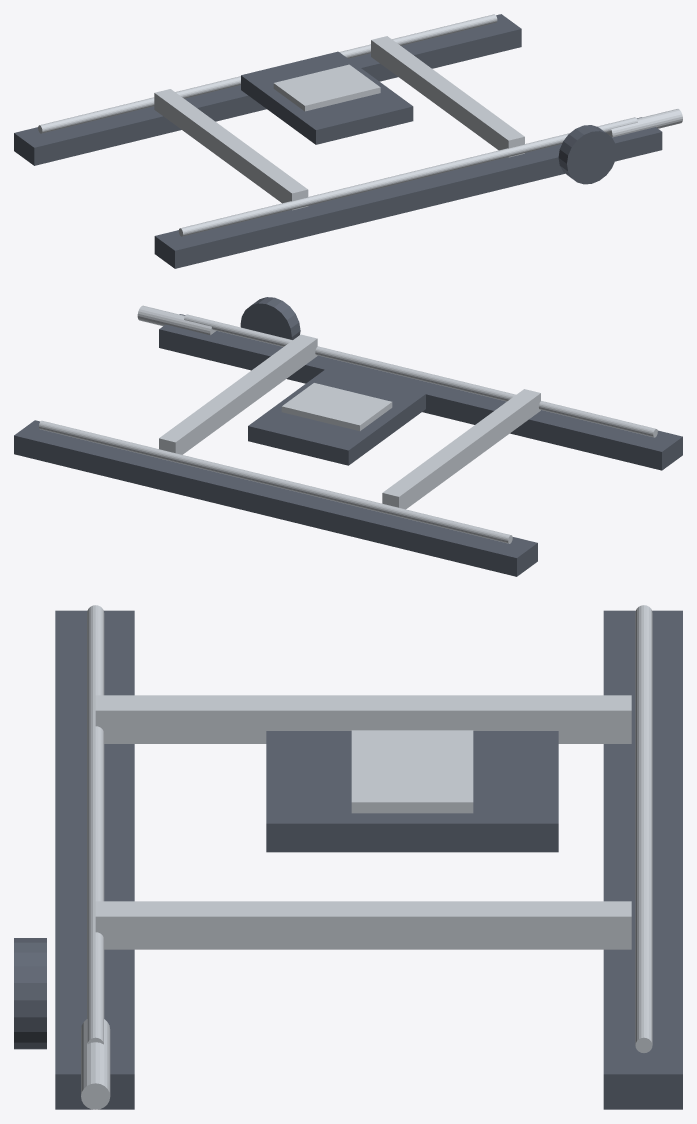
File: wafer-xy-motion-stage-2.glb
3 renders of one model, top to bottom at view 1: azimuth 30°, elevation 25°; view 2: azimuth 150°, elevation 25°; view 3: azimuth 270°, elevation 25°, orthographic. The views are drawn at different scales.
Parts seen in each view (by area): view 1: black long rail (×2), silver cross rail (×2), black wafer carriage, silver guide shaft (×2), silver carriage clamp, black front handwheel, silver transverse drive; view 2: black long rail (×2), silver cross rail (×2), silver guide shaft (×2), black wafer carriage, silver carriage clamp, black front handwheel, silver transverse drive; view 3: black long rail (×2), silver cross rail (×2), black wafer carriage, silver guide shaft (×2), silver carriage clamp, black front handwheel, silver transverse drive.
Part boxes in pixels (left/top/right/bottom): black long rail (×2): left=14, top=14, right=662, bottom=268; silver cross rail (×2): left=154, top=36, right=524, bottom=210; black wafer carriage: left=241, top=51, right=413, bottom=144; silver guide shaft (×2): left=38, top=14, right=637, bottom=236; silver carriage clamp: left=273, top=64, right=380, bottom=111; black front handwheel: left=558, top=125, right=616, bottom=184; silver transverse drive: left=607, top=109, right=682, bottom=137; black long rail (×2): left=14, top=314, right=682, bottom=576; silver cross rail (×2): left=159, top=334, right=540, bottom=509; silver guide shaft (×2): left=39, top=314, right=657, bottom=543; black wafer carriage: left=248, top=369, right=425, bottom=465; silver carriage clamp: left=281, top=383, right=392, bottom=431; black front handwheel: left=240, top=297, right=300, bottom=339; silver transverse drive: left=137, top=305, right=216, bottom=335; black long rail (×2): left=55, top=610, right=682, bottom=1109; silver cross rail (×2): left=95, top=695, right=631, bottom=949; black wafer carriage: left=266, top=731, right=558, bottom=852; silver guide shaft (×2): left=87, top=605, right=652, bottom=1052; silver carriage clamp: left=351, top=730, right=473, bottom=813; black front handwheel: left=14, top=938, right=46, bottom=1049; silver transverse drive: left=81, top=1019, right=110, bottom=1109.
Bounding box in the file's own units: 0.95 × 0.112 × 0.549.
